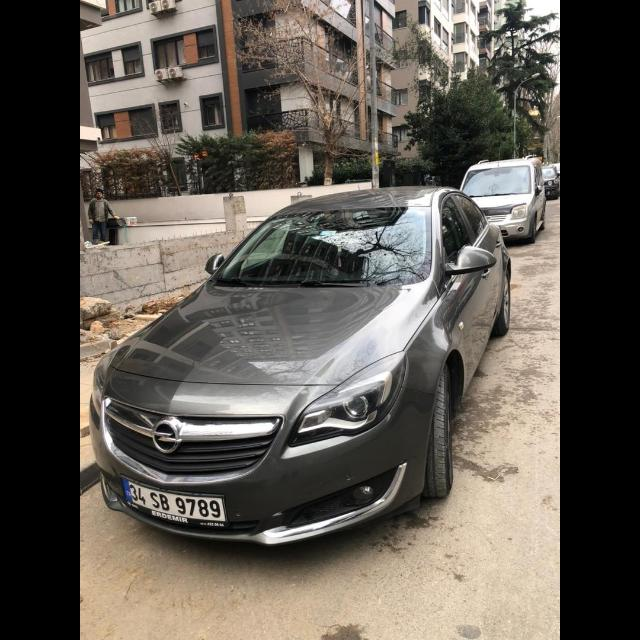Plaka: (125, 481, 227, 524)
